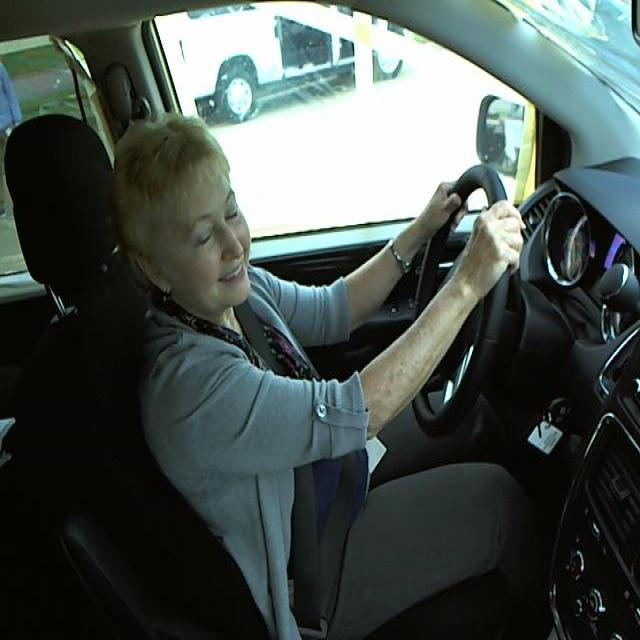seatbelt: (255, 322, 371, 602)
